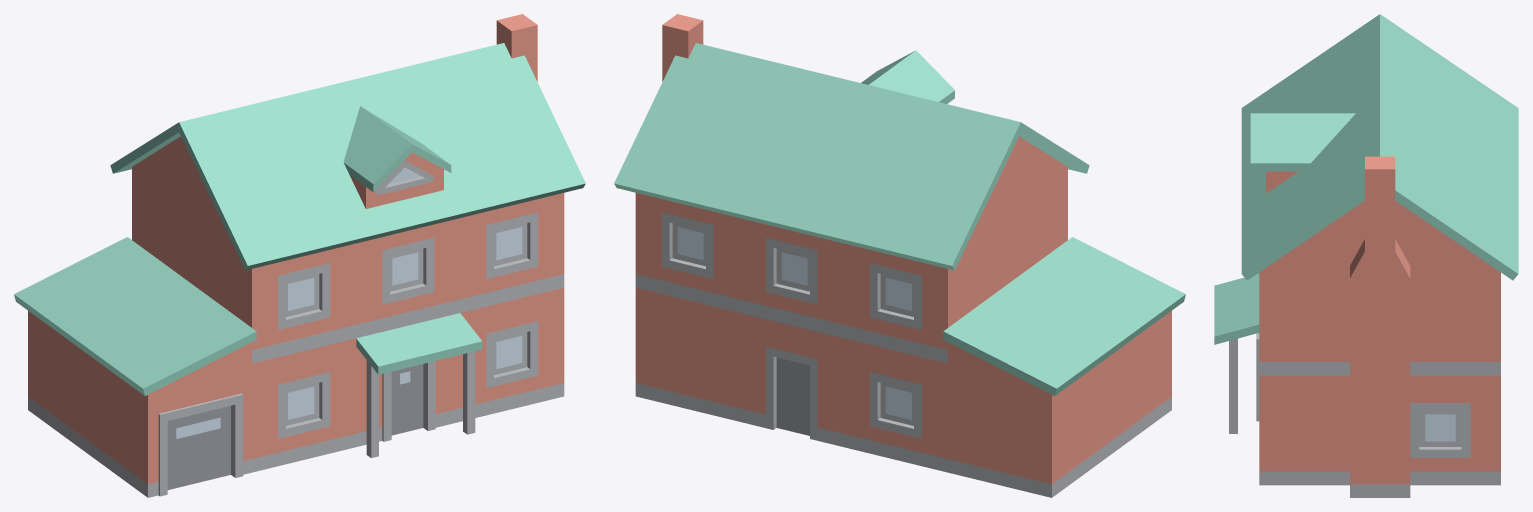
Rendered from house8.fbx.
The picture shows the model from 3 angles, left to right: view 1: azimuth 30°, elevation 25°; view 2: azimuth 150°, elevation 25°; view 3: azimuth 270°, elevation 25°; orthographic projection.
Visible parts, largest first — view 1: house_type08; view 2: house_type08; view 3: house_type08.
Boxes of the visible parts, x1,y1,x2,y2 form: house_type08: (14, 14, 585, 497); house_type08: (614, 14, 1185, 497); house_type08: (1214, 14, 1518, 497).
Size of the model in its own units: 1736 by 1200 by 1006.
